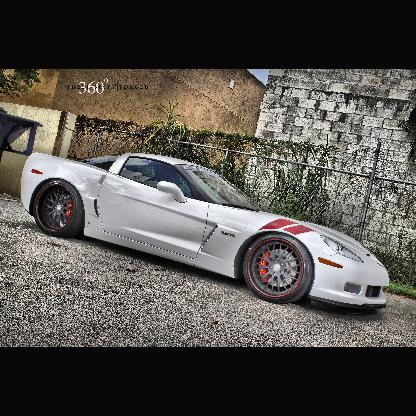Chevrolet Corvette Ron Fellows Edition Z06 2007: (17, 138, 394, 314)
